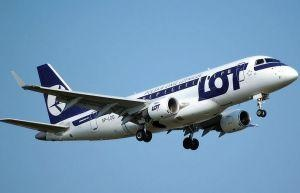airplane: (1, 54, 298, 148)
